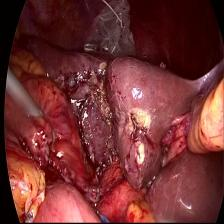Irrigator: (28, 96, 57, 148)
Specimen Bag: (72, 0, 141, 59)
